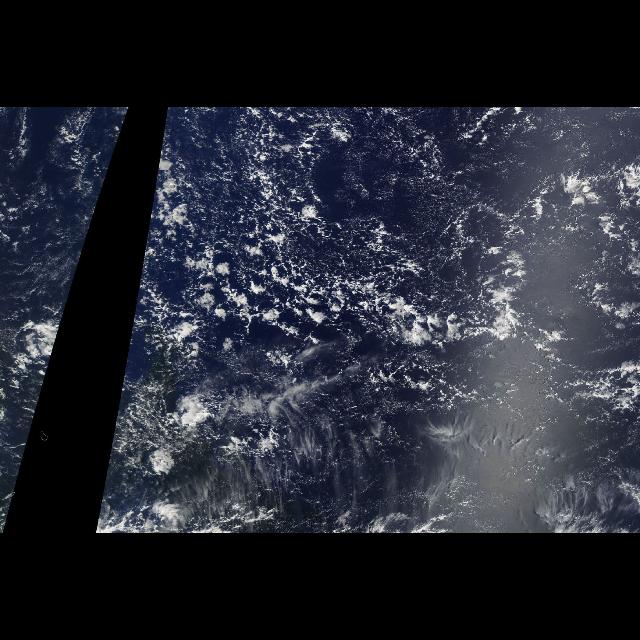Gravel: (131, 108, 594, 376)
